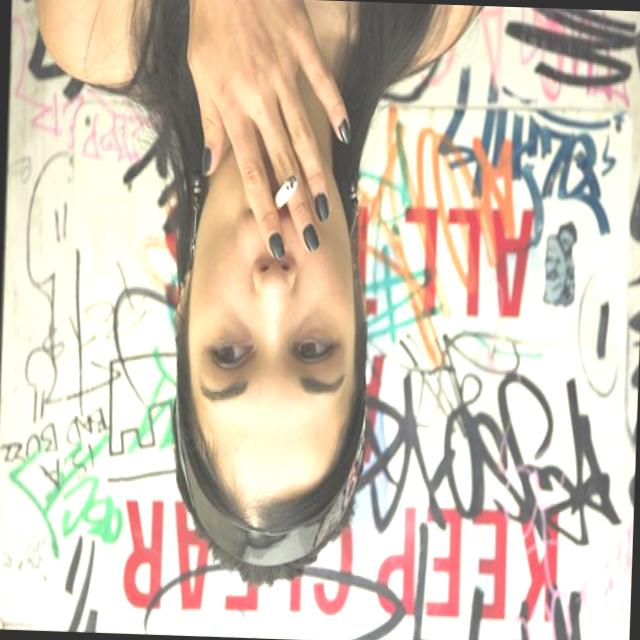cigarette: (266, 170, 302, 212)
